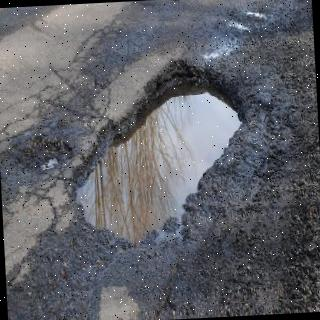pothole: (75, 60, 247, 246), (0, 132, 72, 190)
